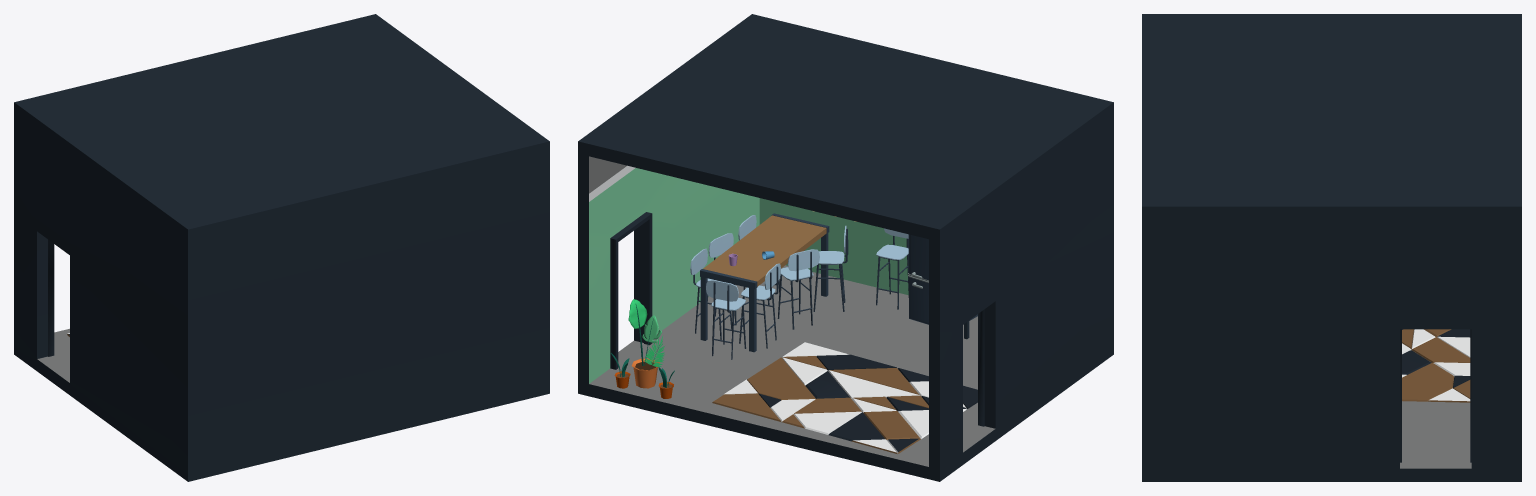
Rendered from Room_rest_001.fbx.
The picture shows the model from 3 angles, left to right: view 1: azimuth 30°, elevation 25°; view 2: azimuth 150°, elevation 25°; view 3: azimuth 270°, elevation 25°; orthographic projection. The views are drawn at different scales.
Visible parts, largest first — view 1: Room_Tiny_001.003; view 2: Room_Tiny_001.003; view 3: Room_Tiny_001.003.
Part boxes in pixels (bbox=[...]): Room_Tiny_001.003: bbox=[14, 14, 549, 481]; Room_Tiny_001.003: bbox=[578, 14, 1113, 481]; Room_Tiny_001.003: bbox=[1142, 14, 1521, 481].
Size of the model in its own units: 600 by 400 by 500.
